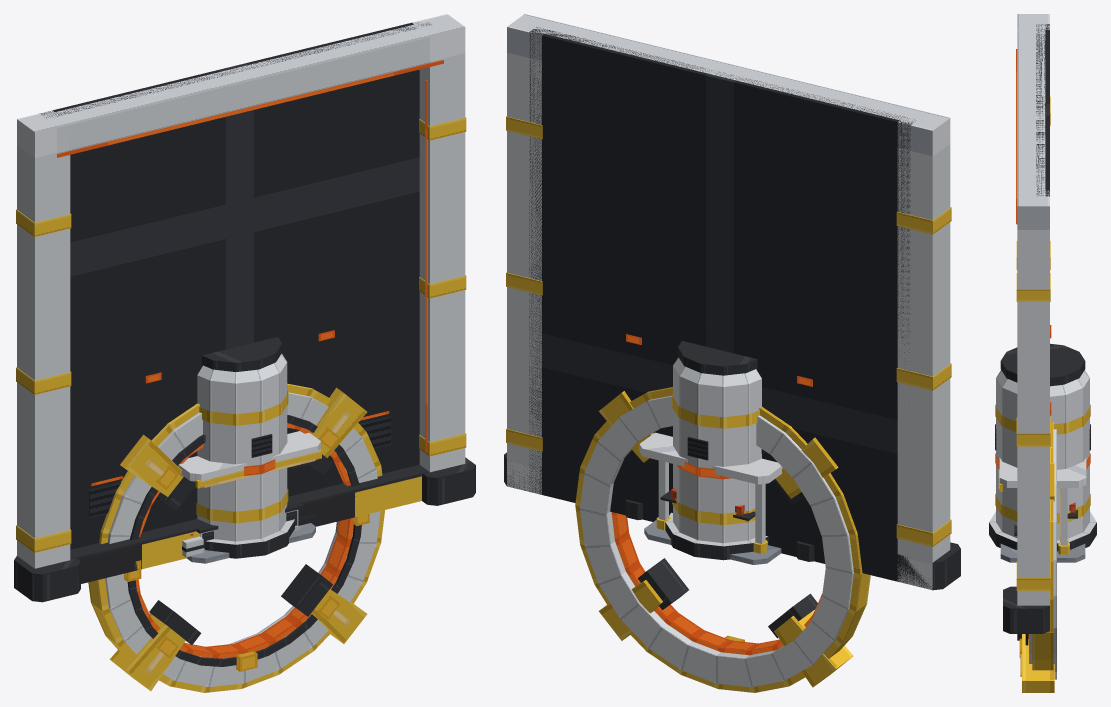
The model's file is reactor-props.glb.
3 renders of one model, left to right at view 1: azimuth 30°, elevation 25°; view 2: azimuth 150°, elevation 25°; view 3: azimuth 270°, elevation 25°, orthographic. The views are drawn at different scales.
Visible parts, largest first — view 1: Wall, Pylon, Pylon.001, Lintel, Drum, Plinth, PlinthTop, PylonFoot, Roof, ClampArm.002, PylonFoot.001, Housing.001 (+23 smaller); view 2: Wall, Pylon, Pylon.001, Drum, Lintel, Roof, Housing.001, PylonFoot, ClampArm.002, ClampJaw.003, Ring.022, Ring.019 (+28 smaller); view 3: Pylon.001, Drum, Lintel, Wall, Housing.001, PylonFoot.001, Roof, ClampArm.003, Band.002, Deck, RingBand.022, PylonBand.004 (+7 smaller).
Part boxes in pixels (x1,y1,x2,y2): Wall: (39, 22, 431, 549); Pylon: (17, 110, 70, 568); Pylon.001: (412, 14, 465, 472); Lintel: (43, 21, 442, 153); Drum: (197, 353, 294, 558); Plinth: (79, 476, 421, 583); PlinthTop: (70, 464, 428, 559); PylonFoot: (14, 556, 80, 602); Roof: (178, 431, 320, 481); ClampArm.002: (109, 613, 185, 690); PylonFoot.001: (422, 457, 475, 505); Housing.001: (201, 337, 281, 371); Wall: (529, 27, 915, 581); Pylon: (897, 109, 950, 589); Pylon.001: (507, 14, 557, 494); Drum: (665, 357, 768, 560); Lintel: (532, 19, 927, 123); Roof: (639, 432, 782, 484); Housing.001: (678, 341, 757, 375); PylonFoot: (897, 542, 960, 590); ClampArm.002: (774, 610, 853, 687); ClampJaw.003: (638, 558, 688, 609); Ring.022: (584, 541, 625, 583); Ring.019: (648, 623, 692, 669); Pylon.001: (1017, 190, 1049, 605); Drum: (989, 370, 1096, 551); Lintel: (1017, 24, 1045, 196); Wall: (1036, 24, 1049, 196); Housing.001: (1000, 343, 1085, 386); PylonFoot.001: (1003, 586, 1049, 633); Roof: (999, 458, 1086, 487); ClampArm.003: (1022, 634, 1054, 692); Band.002: (995, 404, 1090, 434); Deck: (1000, 544, 1085, 562); RingBand.022: (1032, 633, 1053, 659); PylonBand.004: (1016, 417, 1050, 446).
Bounding box in the file's own units: 20 × 26.5 × 4.6.
2 materials, 2 textured.
